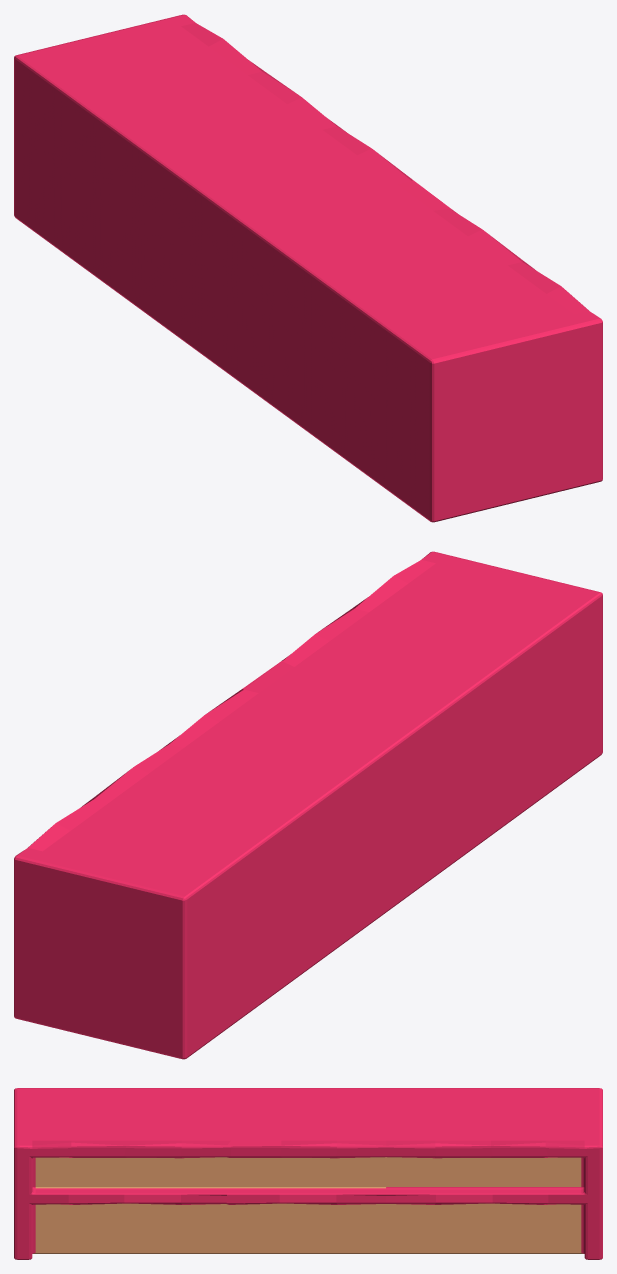
File: Terreno_Cake_001_BlockOut.glb
3 views of the same model, one above another, from view 1: azimuth 30°, elevation 25°; view 2: azimuth 150°, elevation 25°; view 3: azimuth 270°, elevation 25° (orthographic). The views are drawn at different scales.
Parts seen in each view (by area): view 1: Terreno_Derch_001, Terreno_Izq_001, Terreno_Centr_001; view 2: Terreno_Izq_001, Terreno_Derch_001, Terreno_Centr_001; view 3: Terreno_Izq_001, Terreno_Derch_001, Terreno_Centr_001.
Boxes of the visible parts, <box> form: Terreno_Derch_001: <box>277,209,602,522</box>; Terreno_Izq_001: <box>14,14,337,329</box>; Terreno_Centr_001: <box>167,126,451,410</box>; Terreno_Izq_001: <box>14,744,339,1059</box>; Terreno_Derch_001: <box>282,551,602,864</box>; Terreno_Centr_001: <box>168,661,452,946</box>; Terreno_Izq_001: <box>386,1088,602,1259</box>; Terreno_Derch_001: <box>14,1088,230,1259</box>; Terreno_Centr_001: <box>226,1088,386,1253</box>.
Bounding box in the file's own units: 4.44 × 4.11 × 18.71.
